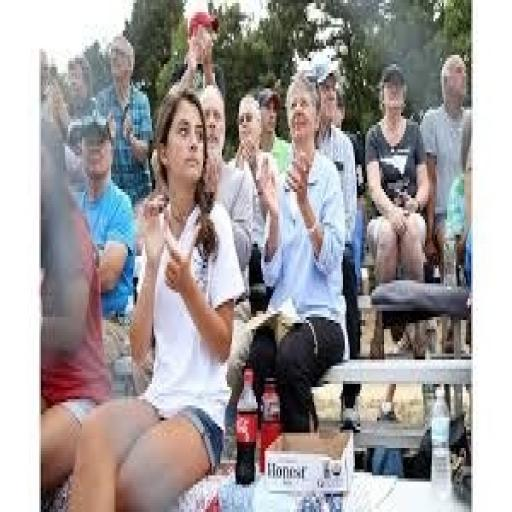clapping: (75, 114, 250, 512), (209, 58, 373, 479)
